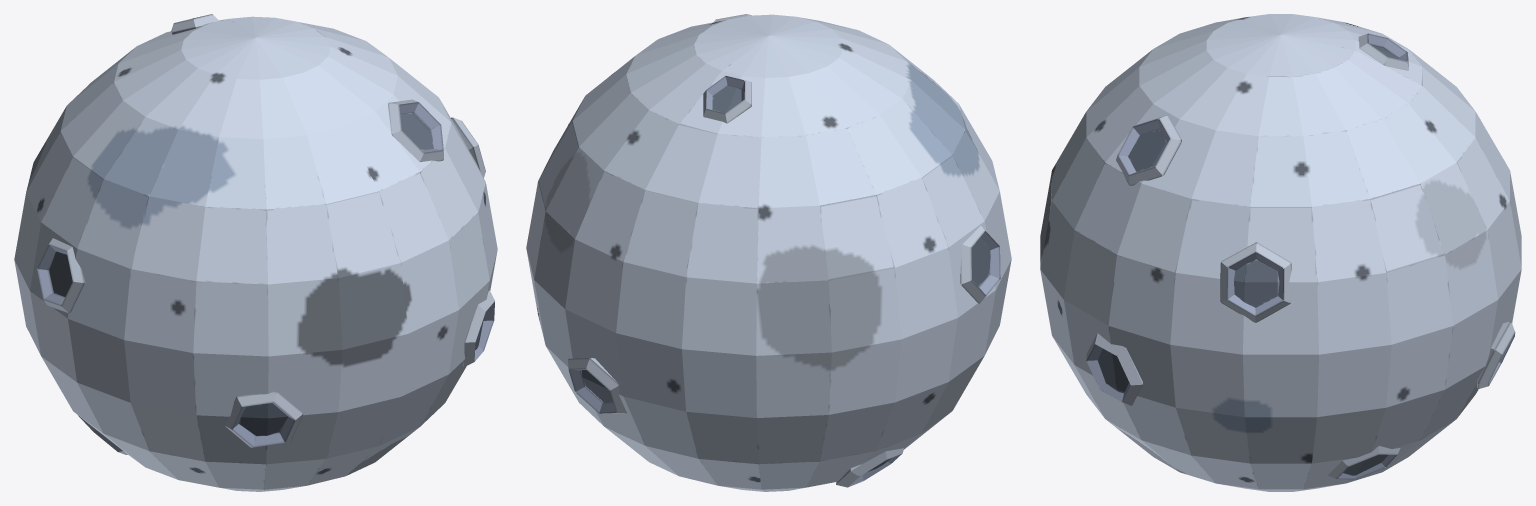
The model's file is Moon.fbx.
3 renders of one model, left to right at view 1: azimuth 30°, elevation 25°; view 2: azimuth 150°, elevation 25°; view 3: azimuth 270°, elevation 25°, orthographic.
Parts seen in each view (by area): view 1: sphere, torus_1, torus, torus_3, torus_7, torus_4; view 2: sphere, torus_2, torus, torus_6, torus_8; view 3: sphere, torus_4, torus_3, torus_7, torus_6, torus_2, torus_5.
Boxes of the visible parts, x1,y1,x2,y2 form: sphere: [14, 16, 497, 491]; torus_1: [223, 391, 303, 447]; torus: [37, 238, 85, 313]; torus_3: [388, 99, 443, 162]; torus_7: [462, 290, 494, 367]; torus_4: [451, 117, 485, 177]; sphere: [526, 14, 1011, 491]; torus_2: [568, 358, 626, 413]; torus: [960, 226, 1000, 303]; torus_6: [703, 76, 751, 123]; torus_8: [836, 448, 903, 487]; sphere: [1040, 14, 1521, 491]; torus_4: [1220, 242, 1291, 322]; torus_3: [1116, 115, 1181, 185]; torus_7: [1086, 333, 1142, 405]; torus_6: [1358, 33, 1408, 70]; torus_2: [1476, 321, 1515, 388]; torus_5: [1328, 446, 1400, 479].
Bounding box in the file's own units: 817 × 800 × 800.
Materials: 1 (1 with a texture image).
